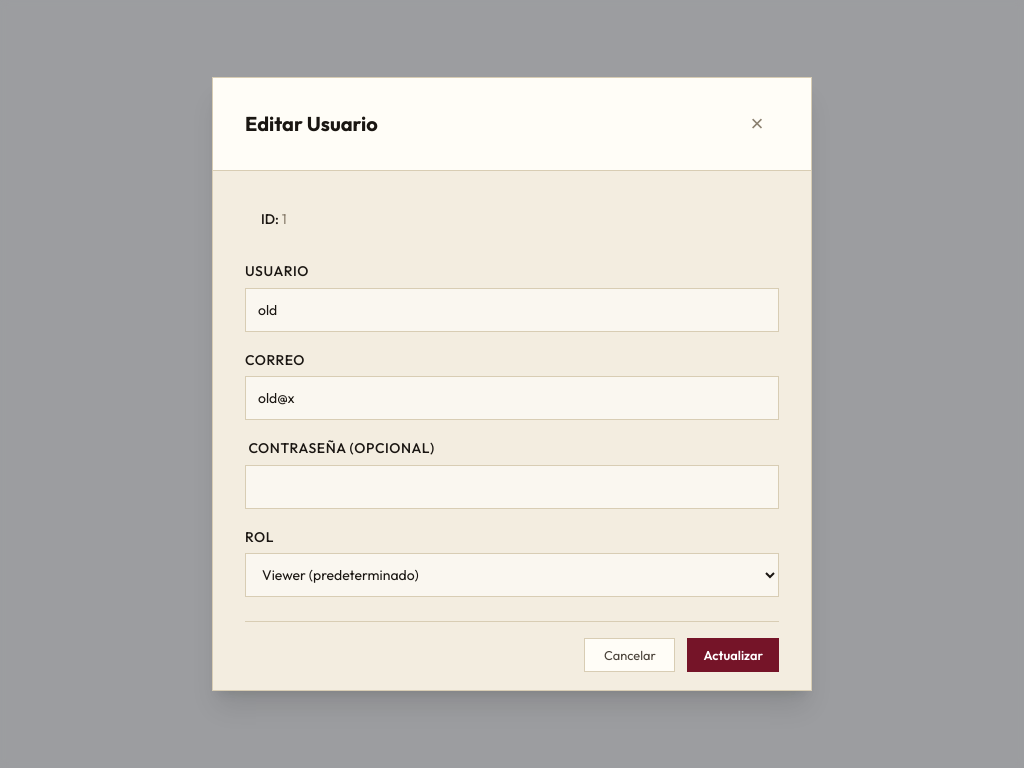
Scenario: AdminFormModal.vue › edit on a user form lists role/email in the confirm, never password
The image size is (1024, 768).
Replace the text in the field with id "email" with "new@x": [512, 398] box [245,376,779,420]
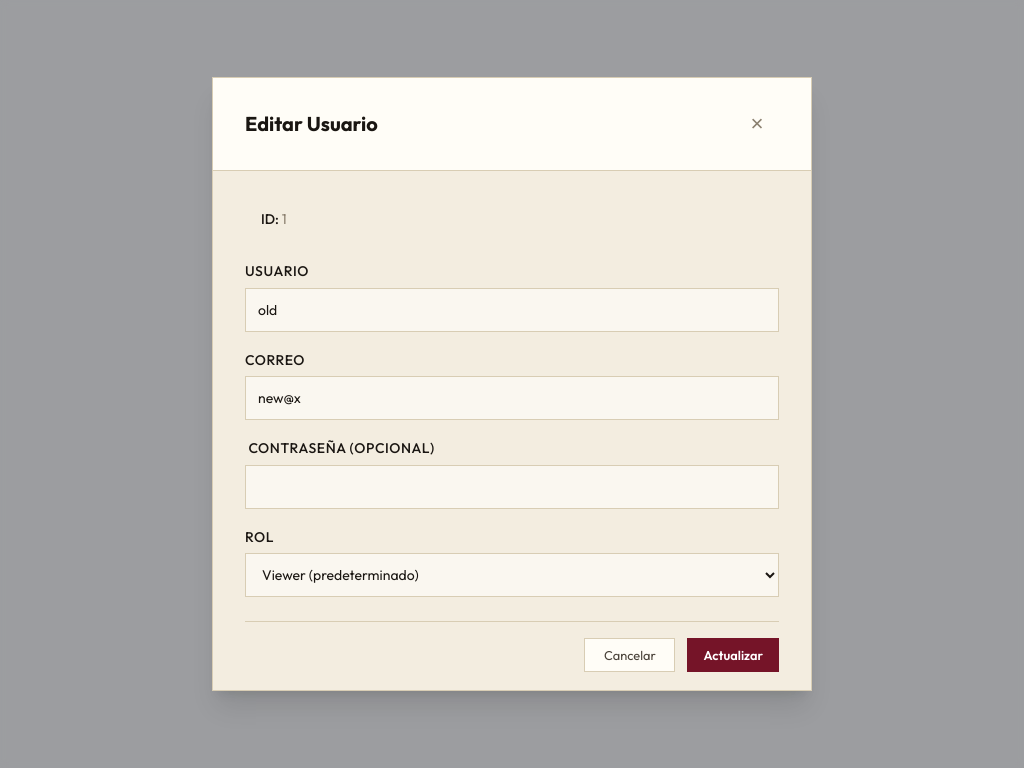
Select "Admin" in the dropdown with id "role": [512, 575] box [245,553,779,597]
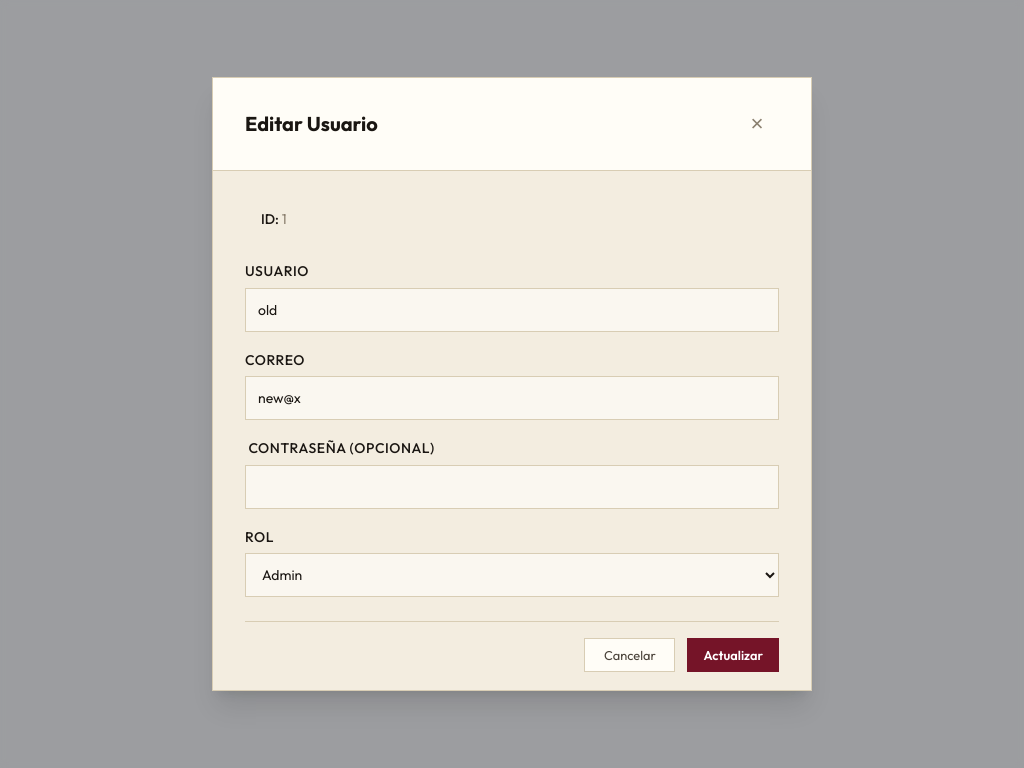
Submit the form, box [245,195,779,672]
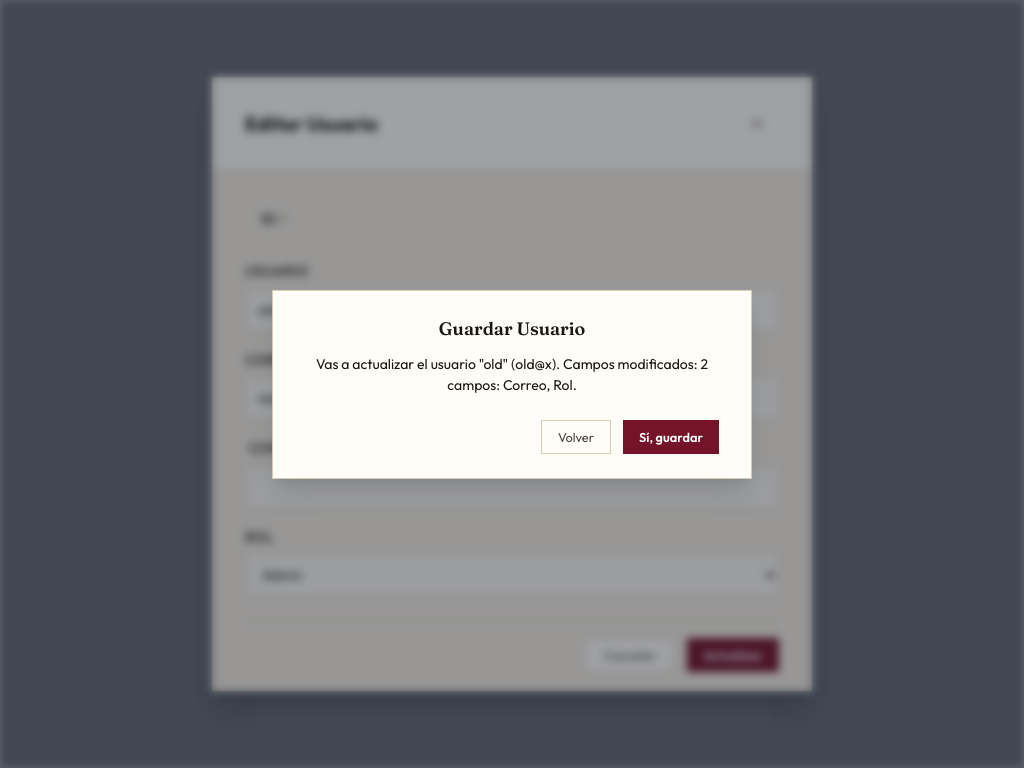
Result: the text with class "admin-confirm-message" shows "\"old\"" at [316,354,708,394]
Result: the text with class "admin-confirm-message" shows "old@x" at [316,354,708,394]
Result: the text with class "admin-confirm-message" shows "Correo" at [316,354,708,394]
